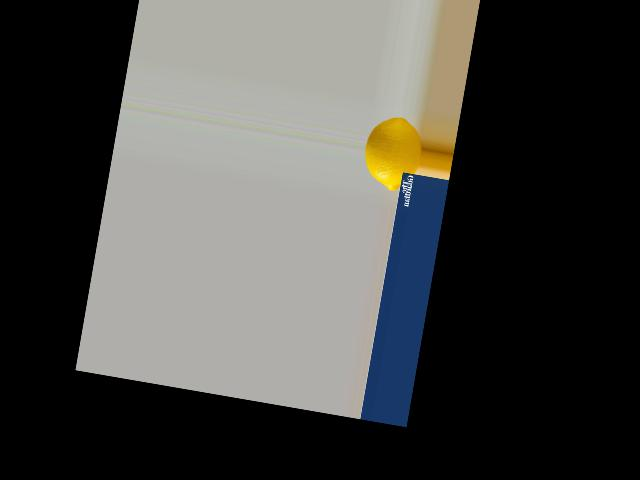lemon: (359, 112, 427, 193)
